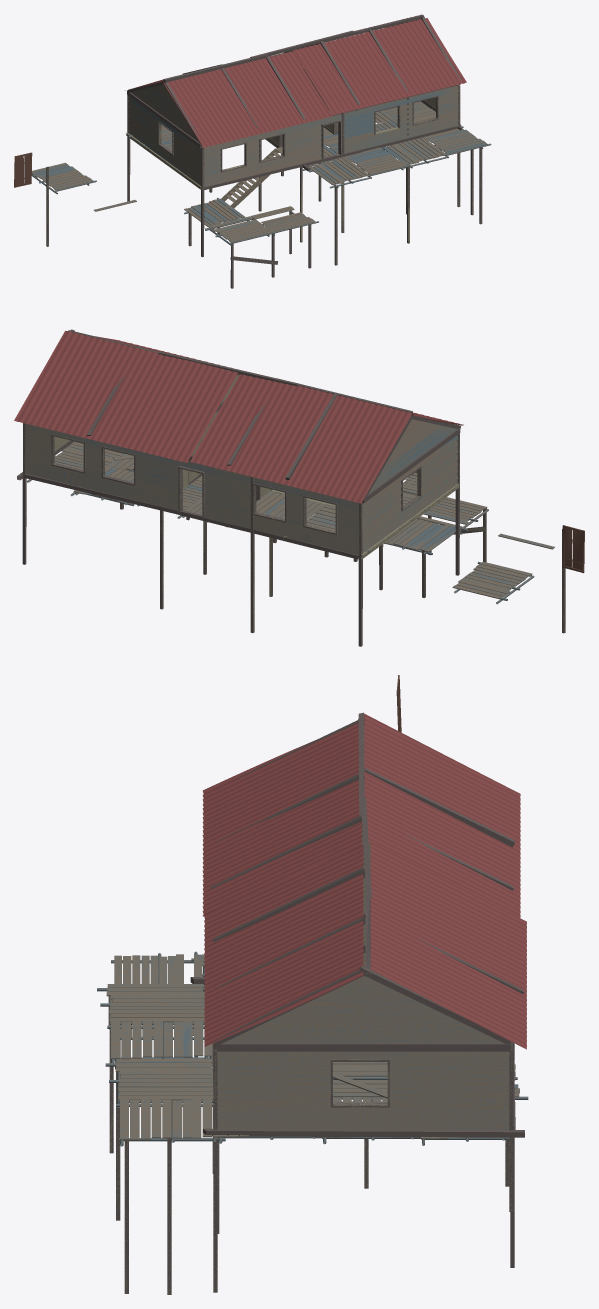
File: Pier_House.fbx
3 renders of one model, top to bottom at view 1: azimuth 30°, elevation 25°; view 2: azimuth 150°, elevation 25°; view 3: azimuth 270°, elevation 25°, orthographic. The views are drawn at different scales.
Parts seen in each view (by area): view 1: Group7, Group6, Group3; view 2: Group7, Group6, Group3; view 3: Group7.
Part boxes in pixels (x1,y1,x2,y2): Group7: [125, 14, 491, 288]; Group6: [31, 162, 96, 194]; Group3: [14, 152, 32, 187]; Group7: [14, 329, 488, 646]; Group6: [452, 561, 534, 604]; Group3: [562, 525, 584, 573]; Group7: [97, 712, 528, 1294].
Bounding box in the file's own units: 1086 × 355 × 441.
